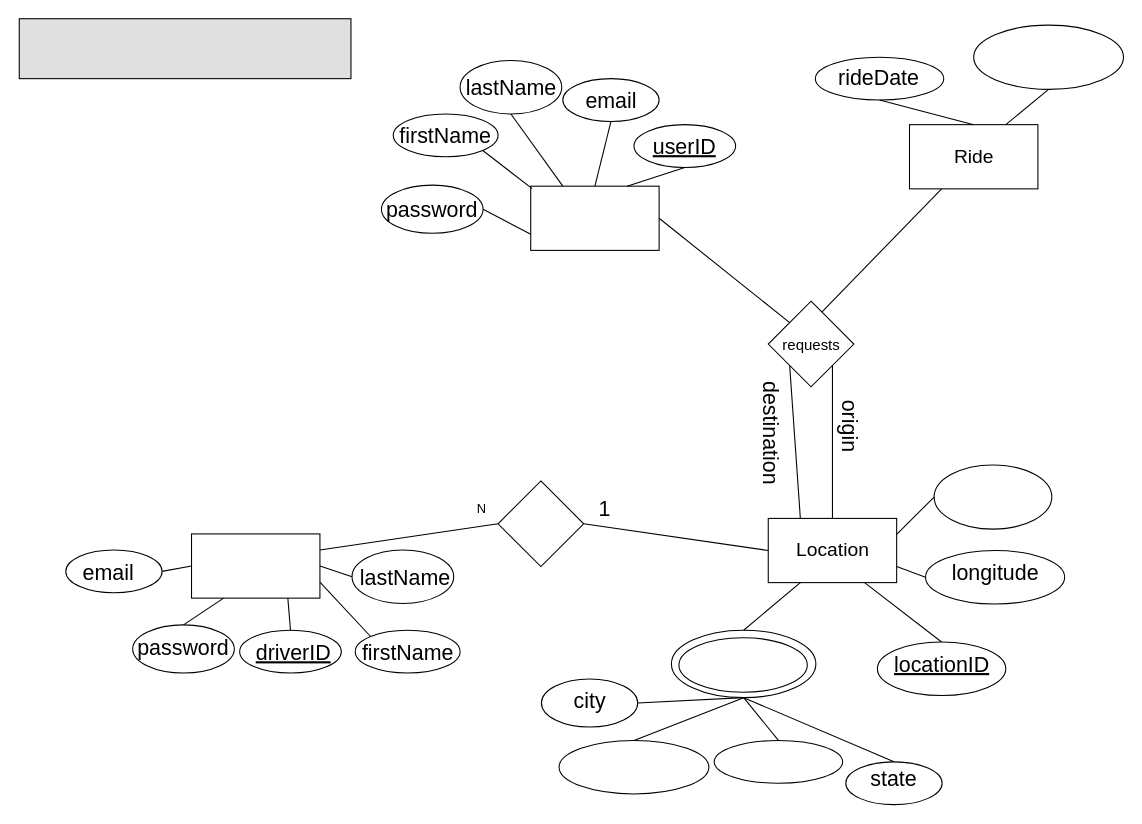
The diagram is 1142 pixels wide and 824 high, and some of its shapes have lost their labels. The centre of each missing label's shape, as x and y in pixels:
"address" goes at point (742, 664).
"Driver" goes at point (255, 565).
"latitude" goes at point (992, 496).
"located" goes at point (540, 523).
"RideShare ER Diagram" goes at point (184, 48).
"rideTimestamp" goes at point (1048, 56).
"streetAddress" goes at point (633, 766).
"User" goes at point (594, 217).
"zipCode" goes at point (778, 761).
